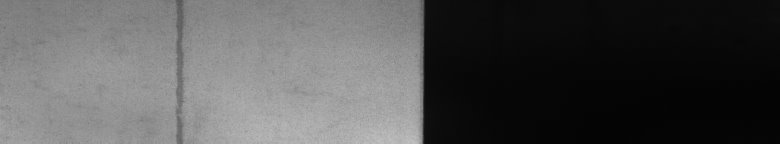hd: (172, 4, 188, 136)
